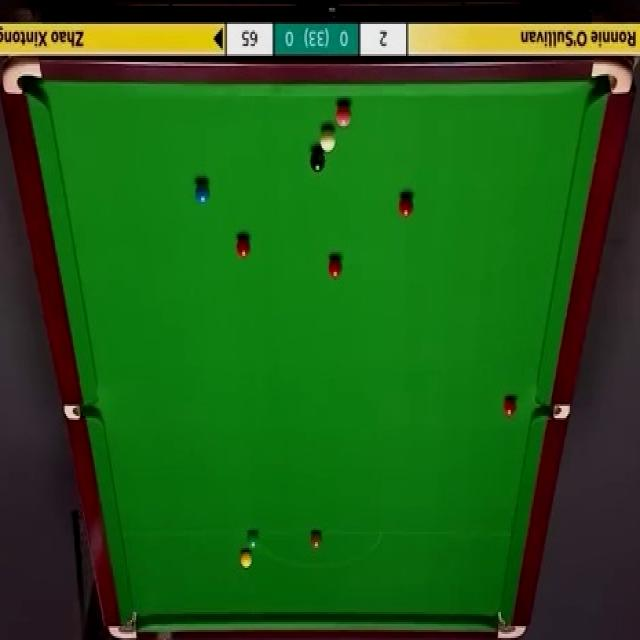pocket: (589, 57, 634, 98), (3, 58, 46, 97), (110, 608, 139, 640), (497, 612, 527, 640), (536, 404, 574, 422), (66, 405, 100, 420)
